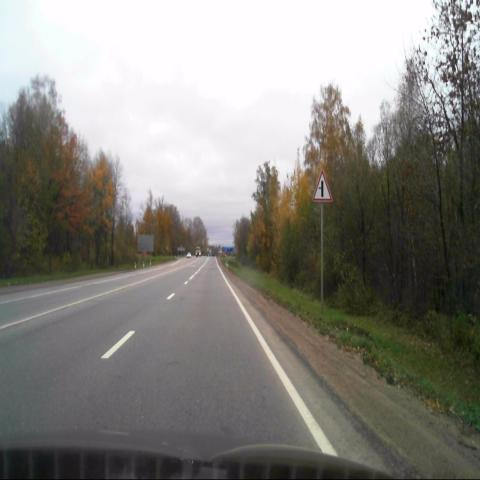2_3_3: (312, 170, 333, 204)
